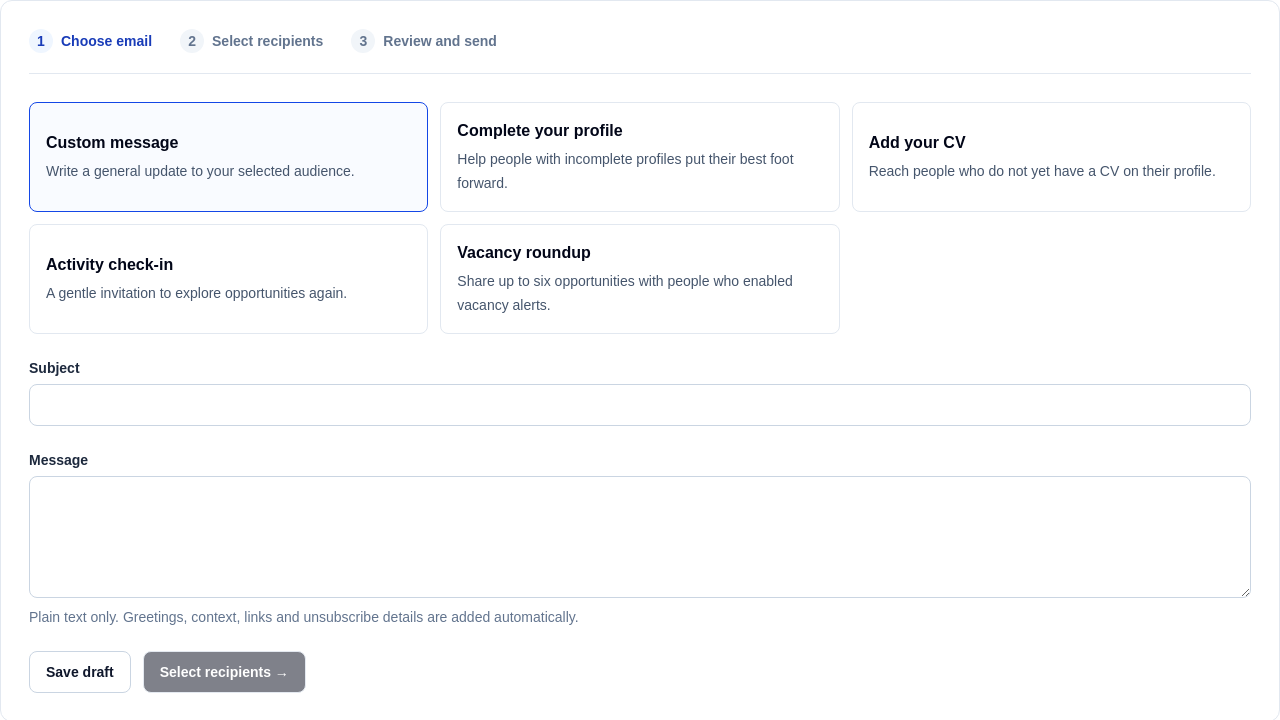
Scenario: Candidate email centre › retains composition after failed draft saves
In the field labelled "Subject": (640,405) [29, 384, 1251, 426], type "Keep this subject"
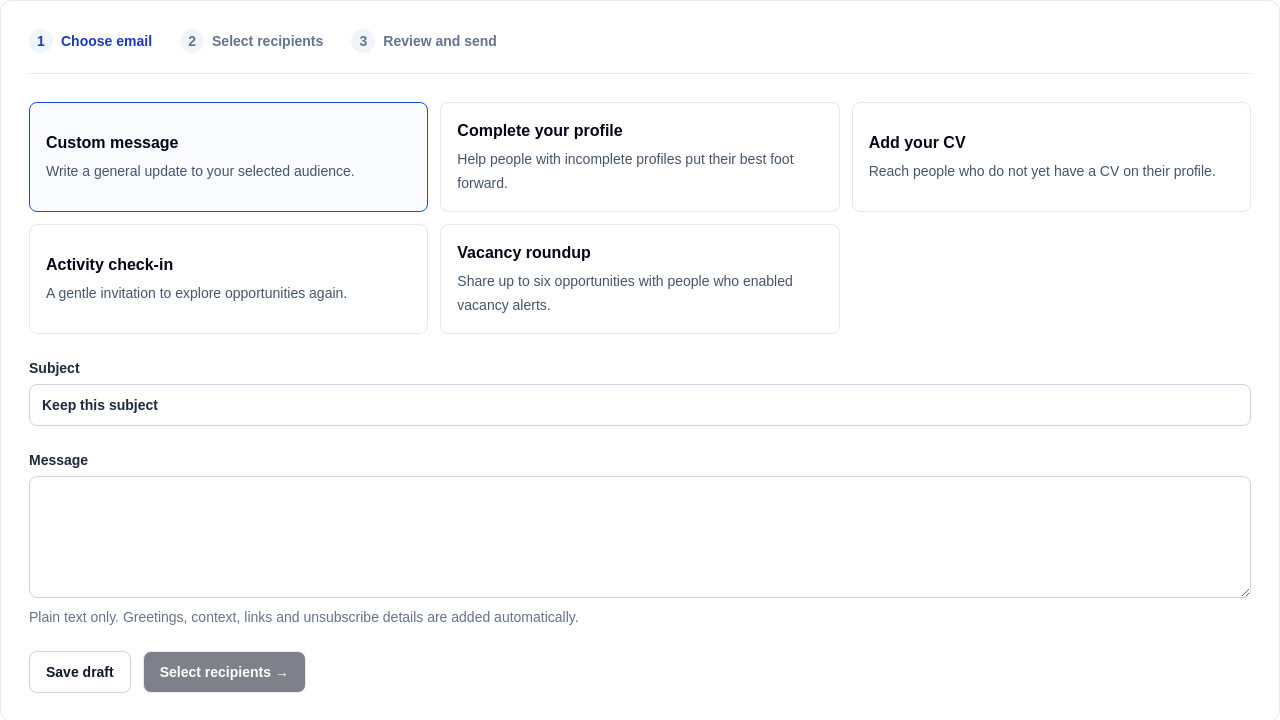
Click the button "Save draft": (80,672) [29, 651, 131, 693]
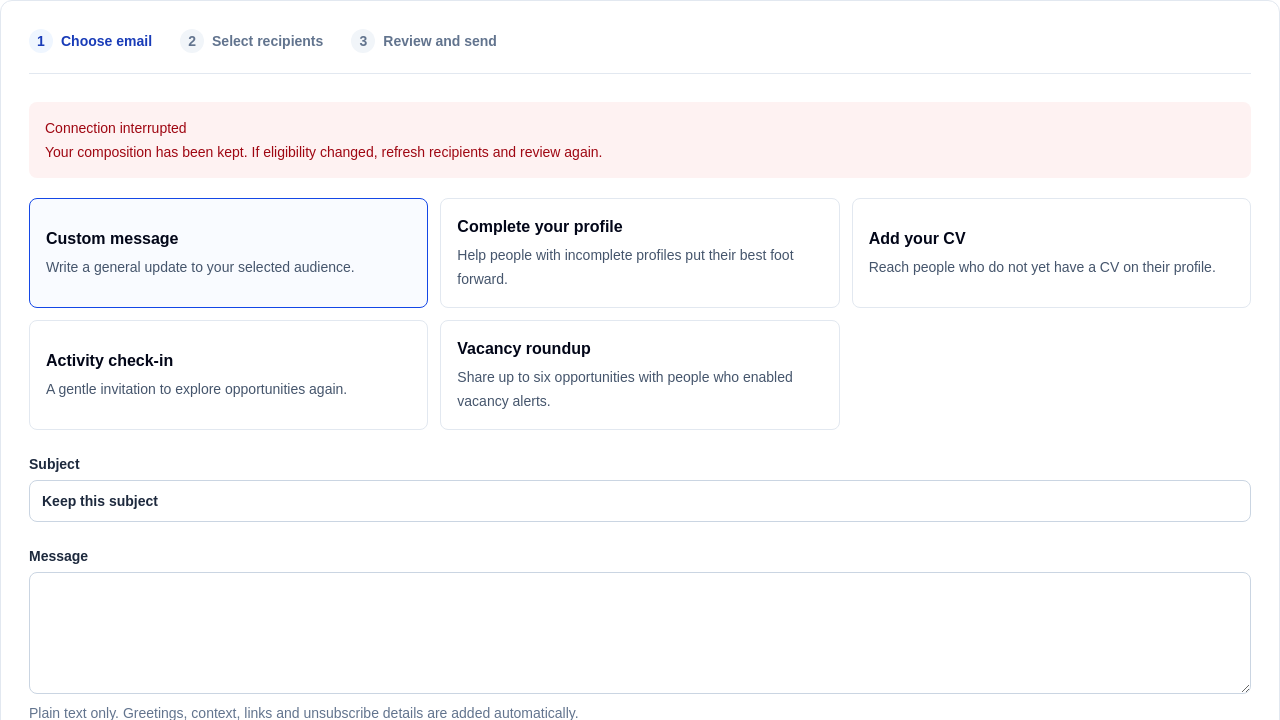
Result: the message shows "Connection interrupted" at [45, 120, 187, 136]
